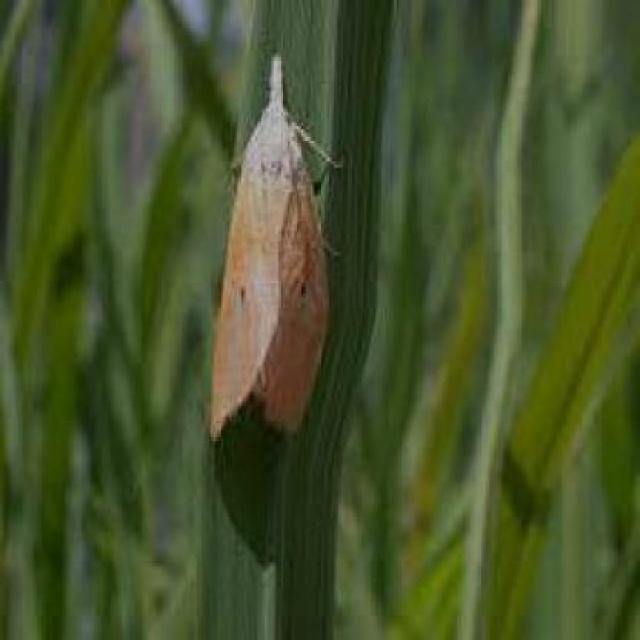stem-borer: (208, 49, 349, 445)
